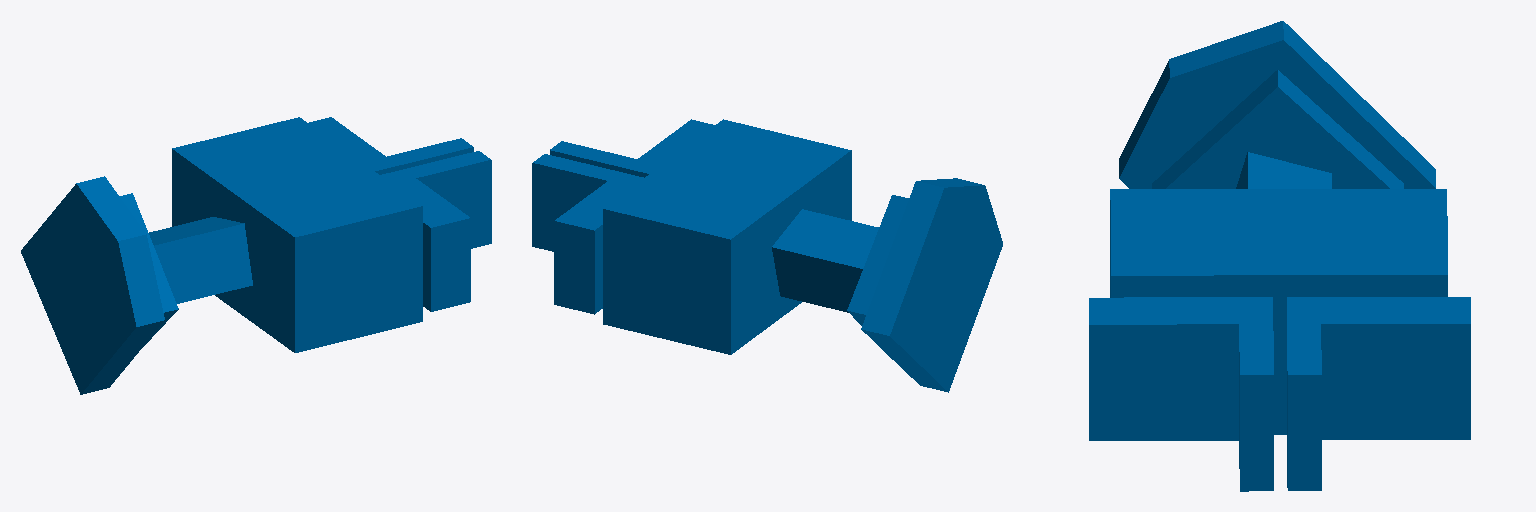
The robot description file, URDF, robot "rccn_west_robot_with_tool":
<?xml version="1.0" ?>
<!-- =================================================================================== -->
<!-- |    This document was autogenerated by xacro from rccn_west_robot_with_tool.xacro | -->
<!-- |    EDITING THIS FILE BY HAND IS NOT RECOMMENDED                                 | -->
<!-- =================================================================================== -->
<robot name="rccn_west_robot_with_tool">
  <link name="world"/>
  <joint name="west_world_joint" type="fixed">
    <parent link="world"/>
    <child link="west_e1_rail"/>
    <origin rpy="0.00000000 0.00000000 0.00316232" xyz="0.03750000 2.40330000 -0.00200000"/>
  </joint>
  <link name="west_e1_rail">
    <visual>
      <geometry>
        <mesh filename="package://rccn_west_robot/meshes/rail/visual/rail.stl"/>
      </geometry>
      <material name="">
        <color rgba="1.0 1.0 1.0 1.0"/>
      </material>
    </visual>
    <collision>
      <geometry>
        <mesh filename="package://rccn_west_robot/meshes/rail/collision/rail.stl"/>
      </geometry>
    </collision>
  </link>
  <joint name="west_joint_e1" type="prismatic">
    <parent link="west_e1_rail"/>
    <child link="west_e1_plate"/>
    <!-- Here we enter the joint position just defined before -->
    <origin rpy="0.00000000 0.00000000 0.00000000" xyz="0.00000000 0.00000000 0.00000000"/>
    <!-- Here we define the axis along which the geometry is moved -->
    <axis xyz="1 0 0"/>
    <!-- Here we define the joint's upper and lower limits -->
    <limit effort="1000.0" lower="0.0" upper="4.266" velocity="0.25"/>
  </joint>
  <link name="west_e1_plate">
    <visual>
      <geometry>
        <mesh filename="package://rccn_west_robot/meshes/rail/visual/plate.stl"/>
      </geometry>
      <material name="">
        <color rgba="1.0 1.0 1.0 1.0"/>
      </material>
    </visual>
    <collision>
      <geometry>
        <mesh filename="package://rccn_west_robot/meshes/rail/collision/plate.stl"/>
      </geometry>
    </collision>
  </link>
  <joint name="west_attachment_joint" type="fixed">
    <parent link="west_e1_plate"/>
    <child link="west_base_link"/>
    <origin rpy="0.00000184 0.00009015 0.00206101" xyz="-0.00043000 -0.00044000 -0.00000000"/>
  </joint>
  <!-- LINKS -->
  <!-- base link -->
  <link name="west_base_link">
    <inertial>
      <origin rpy="0 0 0" xyz="0 0 0"/>
      <mass value="2"/>
      <inertia ixx="0.01" ixy="0" ixz="0" iyy="0.01" iyz="0" izz="0.01"/>
    </inertial>
    <visual>
      <origin rpy="0 0 0" xyz="0 0 0"/>
      <geometry>
        <mesh filename="package://kuka_kr300_support/meshes/kr300r2500pro/visual/base_link.stl"/>
      </geometry>
      <material name="">
        <color rgba="1.0 1.0 1.0 1.0"/>
      </material>
    </visual>
    <collision>
      <origin rpy="0 0 0" xyz="0 0 0"/>
      <geometry>
        <mesh filename="package://kuka_kr300_support/meshes/kr300r2500pro/collision/base_link.stl"/>
      </geometry>
    </collision>
  </link>
  <!-- link 1 (A1) -->
  <link name="west_link_1">
    <inertial>
      <origin rpy="0 0 0" xyz="0 0 0"/>
      <mass value="2"/>
      <inertia ixx="0.01" ixy="0" ixz="0" iyy="0.01" iyz="0" izz="0.01"/>
    </inertial>
    <visual>
      <origin rpy="0 0 0" xyz="0 0 0"/>
      <geometry>
        <mesh filename="package://kuka_kr300_support/meshes/kr300r2500pro/visual/link_1.stl"/>
      </geometry>
      <material name="">
        <color rgba="1.0 1.0 1.0 1.0"/>
      </material>
    </visual>
    <collision>
      <origin rpy="0 0 0" xyz="0 0 0"/>
      <geometry>
        <mesh filename="package://kuka_kr300_support/meshes/kr300r2500pro/collision/link_1.stl"/>
      </geometry>
    </collision>
  </link>
  <!-- link 2 -->
  <link name="west_link_2">
    <inertial>
      <origin rpy="0 0 0" xyz="0 0 0"/>
      <mass value="2"/>
      <inertia ixx="0.01" ixy="0" ixz="0" iyy="0.01" iyz="0" izz="0.01"/>
    </inertial>
    <visual>
      <origin rpy="0 0 0" xyz="0 0 0"/>
      <geometry>
        <mesh filename="package://kuka_kr300_support/meshes/kr300r2500pro/visual/link_2.stl"/>
      </geometry>
      <material name="">
        <color rgba="1.0 1.0 1.0 1.0"/>
      </material>
    </visual>
    <collision>
      <origin rpy="0 0 0" xyz="0 0 0"/>
      <geometry>
        <mesh filename="package://kuka_kr300_support/meshes/kr300r2500pro/collision/link_2.stl"/>
      </geometry>
    </collision>
  </link>
  <!-- link 3 -->
  <link name="west_link_3">
    <inertial>
      <origin rpy="0 0 0" xyz="0 0 0"/>
      <mass value="2"/>
      <inertia ixx="0.01" ixy="0" ixz="0" iyy="0.01" iyz="0" izz="0.01"/>
    </inertial>
    <visual>
      <origin rpy="0 0 0" xyz="0 0 0"/>
      <geometry>
        <mesh filename="package://kuka_kr300_support/meshes/kr300r2500pro/visual/link_3.stl"/>
      </geometry>
      <material name="">
        <color rgba="1.0 1.0 1.0 1.0"/>
      </material>
    </visual>
    <collision>
      <origin rpy="0 0 0" xyz="0 0 0"/>
      <geometry>
        <mesh filename="package://kuka_kr300_support/meshes/kr300r2500pro/collision/link_3.stl"/>
      </geometry>
    </collision>
  </link>
  <!-- link 4 -->
  <link name="west_link_4">
    <inertial>
      <origin rpy="0 0 0" xyz="0 0 0"/>
      <mass value="2"/>
      <inertia ixx="0.01" ixy="0" ixz="0" iyy="0.01" iyz="0" izz="0.01"/>
    </inertial>
    <visual>
      <origin rpy="0 0 0" xyz="0 0 0"/>
      <geometry>
        <mesh filename="package://kuka_kr300_support/meshes/kr300r2500pro/visual/link_4.stl"/>
      </geometry>
      <material name="">
        <color rgba="1.0 1.0 1.0 1.0"/>
      </material>
    </visual>
    <collision>
      <origin rpy="0 0 0" xyz="0 0 0"/>
      <geometry>
        <mesh filename="package://kuka_kr300_support/meshes/kr300r2500pro/collision/link_4.stl"/>
      </geometry>
    </collision>
  </link>
  <!-- link 5 -->
  <link name="west_link_5">
    <inertial>
      <origin rpy="0 0 0" xyz="0 0 0"/>
      <mass value="2"/>
      <inertia ixx="0.01" ixy="0" ixz="0" iyy="0.01" iyz="0" izz="0.01"/>
    </inertial>
    <visual>
      <origin rpy="0 0 0" xyz="0 0 0"/>
      <geometry>
        <mesh filename="package://kuka_kr300_support/meshes/kr300r2500pro/visual/link_5.stl"/>
      </geometry>
      <material name="">
        <color rgba="1.0 1.0 1.0 1.0"/>
      </material>
    </visual>
    <collision>
      <origin rpy="0 0 0" xyz="0 0 0"/>
      <geometry>
        <mesh filename="package://kuka_kr300_support/meshes/kr300r2500pro/collision/link_5.stl"/>
      </geometry>
    </collision>
  </link>
  <!-- link 6 -->
  <link name="west_link_6">
    <inertial>
      <origin rpy="0 0 0" xyz="0 0 0"/>
      <mass value="2"/>
      <inertia ixx="0.01" ixy="0" ixz="0" iyy="0.01" iyz="0" izz="0.01"/>
    </inertial>
    <visual>
      <origin rpy="0 0 0" xyz="0 0 0"/>
      <geometry>
        <mesh filename="package://kuka_kr300_support/meshes/kr300r2500pro/visual/link_6.stl"/>
      </geometry>
      <material name="">
        <color rgba="1.0 1.0 1.0 1.0"/>
      </material>
    </visual>
    <collision>
      <origin rpy="0 0 0" xyz="0 0 0"/>
      <geometry>
        <mesh filename="package://kuka_kr300_support/meshes/kr300r2500pro/collision/link_6.stl"/>
      </geometry>
    </collision>
  </link>
  <!-- tool 0 -->
  <!-- This frame corresponds to the $FLANGE coordinate system in KUKA KRC controllers. -->
  <link name="west_tool0"/>
  <!-- END LINKS -->
  <!-- JOINTS -->
  <!-- joint 1 (A1) -->
  <joint name="west_joint_a1" type="revolute">
    <origin rpy="0 0 0" xyz="0 0 0.675"/>
    <parent link="west_base_link"/>
    <child link="west_link_1"/>
    <axis xyz="0 0 -1"/>
    <limit effort="0" lower="-3.2288591161895095" upper="3.2288591161895095" velocity="2.722713633111154"/>
  </joint>
  <!-- joint 2 (A2) -->
  <joint name="west_joint_a2" type="revolute">
    <origin rpy="0 0 0" xyz="0.35 0 0"/>
    <parent link="west_link_1"/>
    <child link="west_link_2"/>
    <axis xyz="0 1 0"/>
    <limit effort="0" lower="-2.705260340591211" upper="0.6108652381980153" velocity="2.722713633111154"/>
  </joint>
  <!-- joint 3 (A3) -->
  <joint name="west_joint_a3" type="revolute">
    <origin rpy="0 0 0" xyz="1.150 0 0"/>
    <parent link="west_link_2"/>
    <child link="west_link_3"/>
    <axis xyz="0 1 0"/>
    <limit effort="0" lower="-2.2689280275926285" upper="2.6878070480712677" velocity="2.722713633111154"/>
  </joint>
  <!-- joint 4 (A4) -->
  <joint name="west_joint_a4" type="revolute">
    <origin rpy="0 0 0" xyz="1.0 0 -0.041"/>
    <parent link="west_link_3"/>
    <child link="west_link_4"/>
    <axis xyz="-1 0 0"/>
    <limit effort="0" lower="-6.1086523819801535" upper="6.1086523819801535" velocity="5.759586531581287"/>
  </joint>
  <!-- joint 5 (A5) -->
  <joint name="west_joint_a5" type="revolute">
    <origin rpy="0 0 0" xyz="0 0 0"/>
    <parent link="west_link_4"/>
    <child link="west_link_5"/>
    <axis xyz="0 1 0"/>
    <limit effort="0" lower="-2.2689280275926285" upper="2.2689280275926285" velocity="5.759586531581287"/>
  </joint>
  <!-- joint 6 (A6) -->
  <joint name="west_joint_a6" type="revolute">
    <origin rpy="0 0 0" xyz="0 0 0"/>
    <parent link="west_link_5"/>
    <child link="west_link_6"/>
    <axis xyz="-1 0 0"/>
    <limit effort="0" lower="-6.1086523819801535" upper="6.1086523819801535" velocity="10.733774899765127"/>
  </joint>
  <!-- tool frame - fixed frame -->
  <joint name="west_joint_a6-tool0" type="fixed">
    <parent link="west_link_6"/>
    <child link="west_tool0"/>
    <origin rpy="0 1.5707963267948966 0" xyz="0.240 0 0"/>
  </joint>
  <!-- END JOINTS -->
  <!-- ROS base_link to KUKA $ROBROOT coordinate system transform -->
  <link name="west_base"/>
  <joint name="west_base_link-base" type="fixed">
    <origin rpy="0 0 0" xyz="0 0 0"/>
    <parent link="west_base_link"/>
    <child link="west_base"/>
  </joint>
  <!-- Create a fixed joint with a parameterized name. -->
  <joint name="tool_joint" type="fixed">
    <!-- The parent link must be read from the robot model it is attached to. -->
    <parent link="west_tool0"/>
    <child link="tool"/>
    <!-- The tool is directly attached to the flange. -->
    <origin rpy="0 0 0" xyz="0 0 0"/>
  </joint>
  <link name="tool">
    <visual>
      <geometry>
        <!-- The path to the visual meshes in the package. -->
        <mesh filename="package://rccn_west_robot_with_tool/meshes/visual/tool.stl"/>
      </geometry>
    </visual>
    <collision>
      <geometry>
        <!-- The path to the collision meshes in the package. -->
        <mesh filename="package://rccn_west_robot_with_tool/meshes/collision/tool.stl"/>
      </geometry>
    </collision>
  </link>
  <!-- TCP frame -->
  <joint name="tcp_joint" type="fixed">
    <origin rpy="0 0 0" xyz="0 0 0.36"/>
    <parent link="tool"/>
    <child link="tcp"/>
  </joint>
  <link name="tcp"/>
</robot>

--- What the picture shows (computed from the rendered views, not written in the file) ---
3 views of the same robot in one strip: view 1: azimuth 30°, elevation 25°; view 2: azimuth 150°, elevation 25°; view 3: azimuth 270°, elevation 25° (orthographic).
Robot: rccn_west_robot_with_tool — 14 links, 13 joints (6 revolute, 1 prismatic, 6 fixed); root link world; default pose: every joint at zero.
Links seen in each view (by area): view 1: tool; view 2: tool; view 3: tool.
Boxes of the visible links, x1,y1,x2,y2 form: tool: (21, 117, 491, 394); tool: (532, 119, 1002, 392); tool: (1089, 21, 1470, 491).
Size in the robot's own frame: 0.3973 by 0.2386 by 0.198 metres.
Meshes: 10 distinct files referenced, 1 mesh visuals loaded (1 binary STL); not drawn: 9 (reference not matched to a file when rendering).